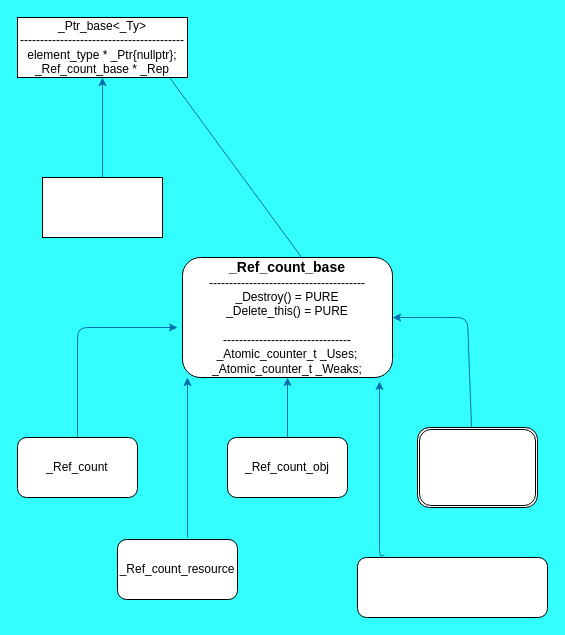
The diagram is 565 pixels wide and 635 high, and some of its shapes have lost their labels. The shapes that lost their labels are listed below. From the top down, each one's centre as x and y in pixels, then its label:
point 102,207: shared_ptr -----------------------------
point 477,467: _Ref_count_obj_alloc
point 452,587: _Ref_count_resource_alloc
